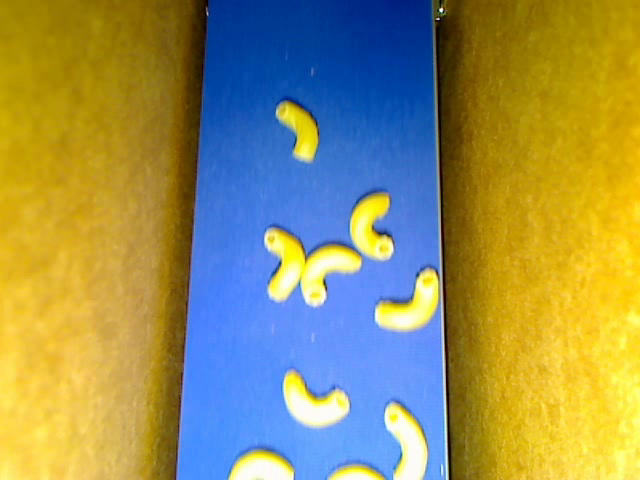elbow: (374, 267, 439, 333), (281, 368, 351, 429), (300, 243, 361, 306), (383, 400, 427, 479), (349, 191, 393, 262), (264, 226, 304, 303), (274, 99, 319, 164), (227, 448, 294, 479), (325, 464, 386, 479)
